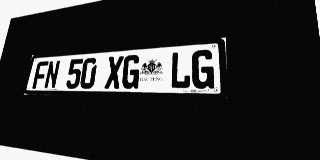0: (79, 57, 98, 89)
5: (65, 58, 83, 89)
F: (32, 61, 49, 89)
G: (191, 49, 214, 89), (121, 54, 141, 89)
L: (169, 51, 191, 89)
N: (43, 60, 61, 89)
X: (104, 56, 124, 89)
